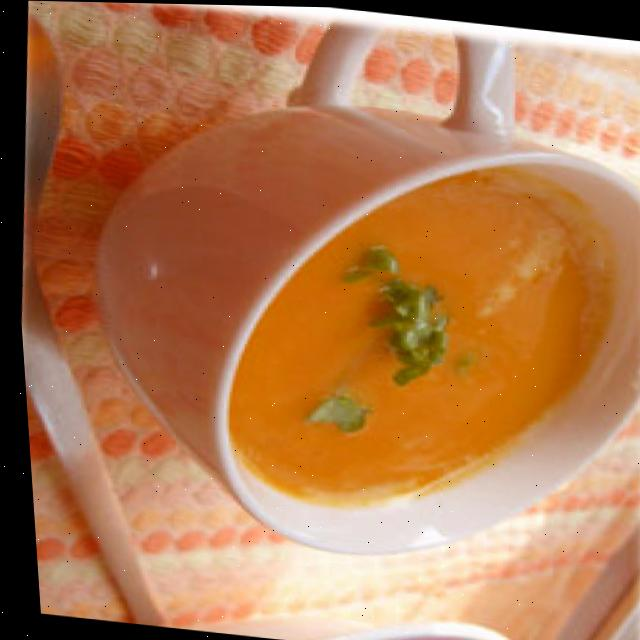汤锅炖物: (51, 56, 640, 583)
